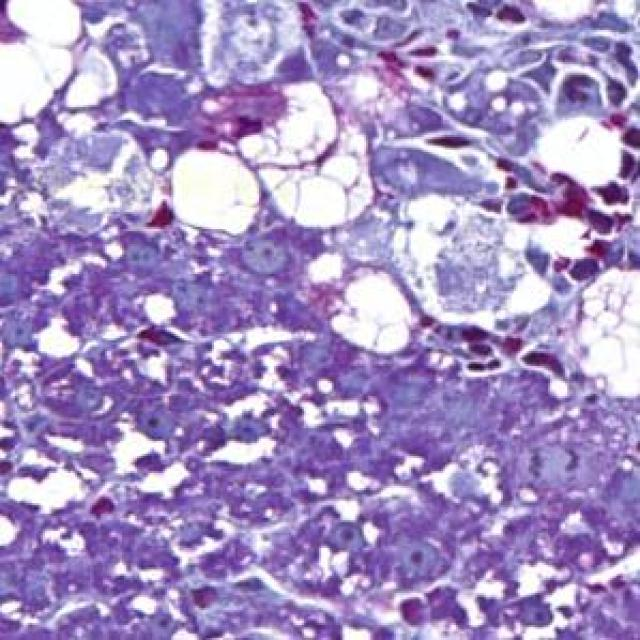ballooning: (222, 80, 376, 234)
